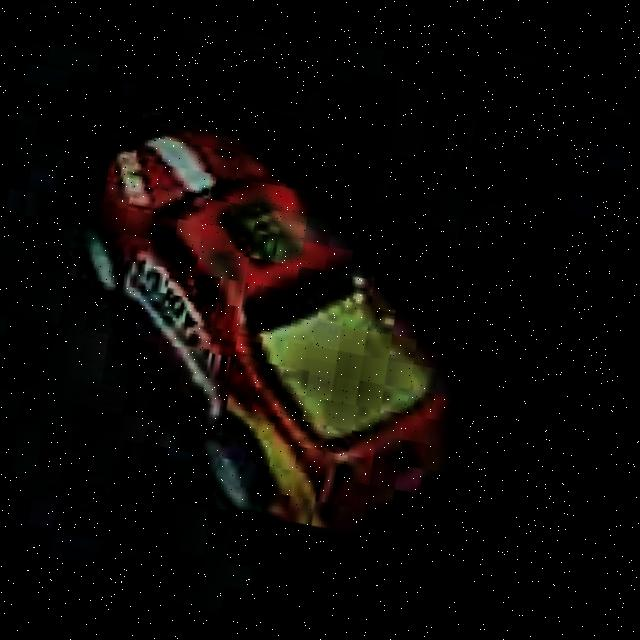car: (28, 83, 508, 583)
